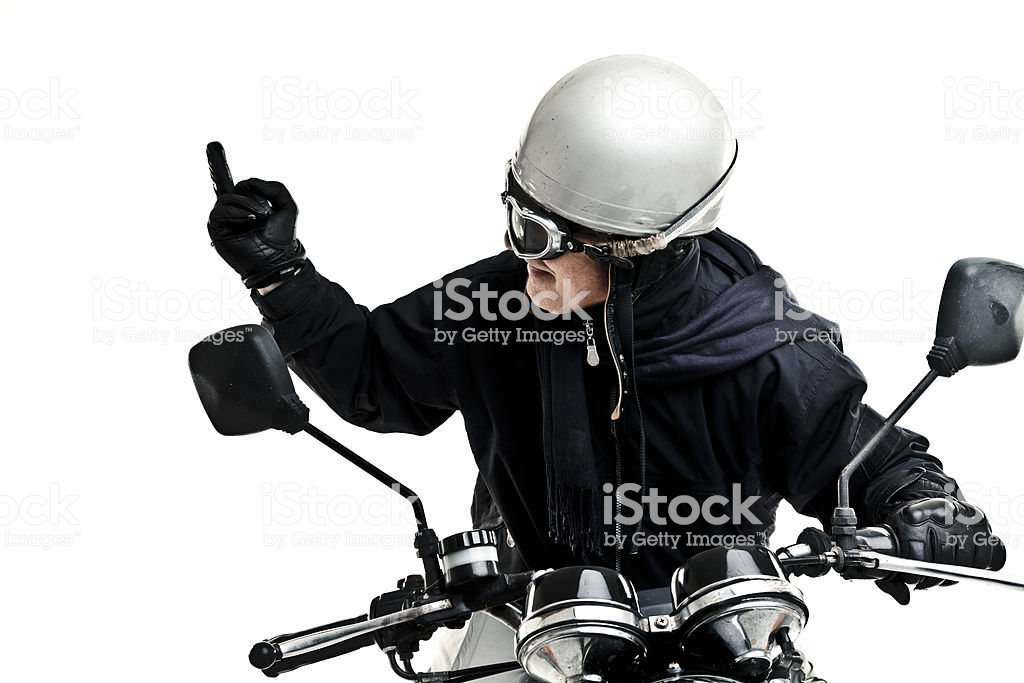helmet: (507, 45, 742, 248)
